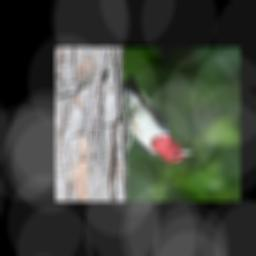Woodpecker: (119, 76, 198, 162)
